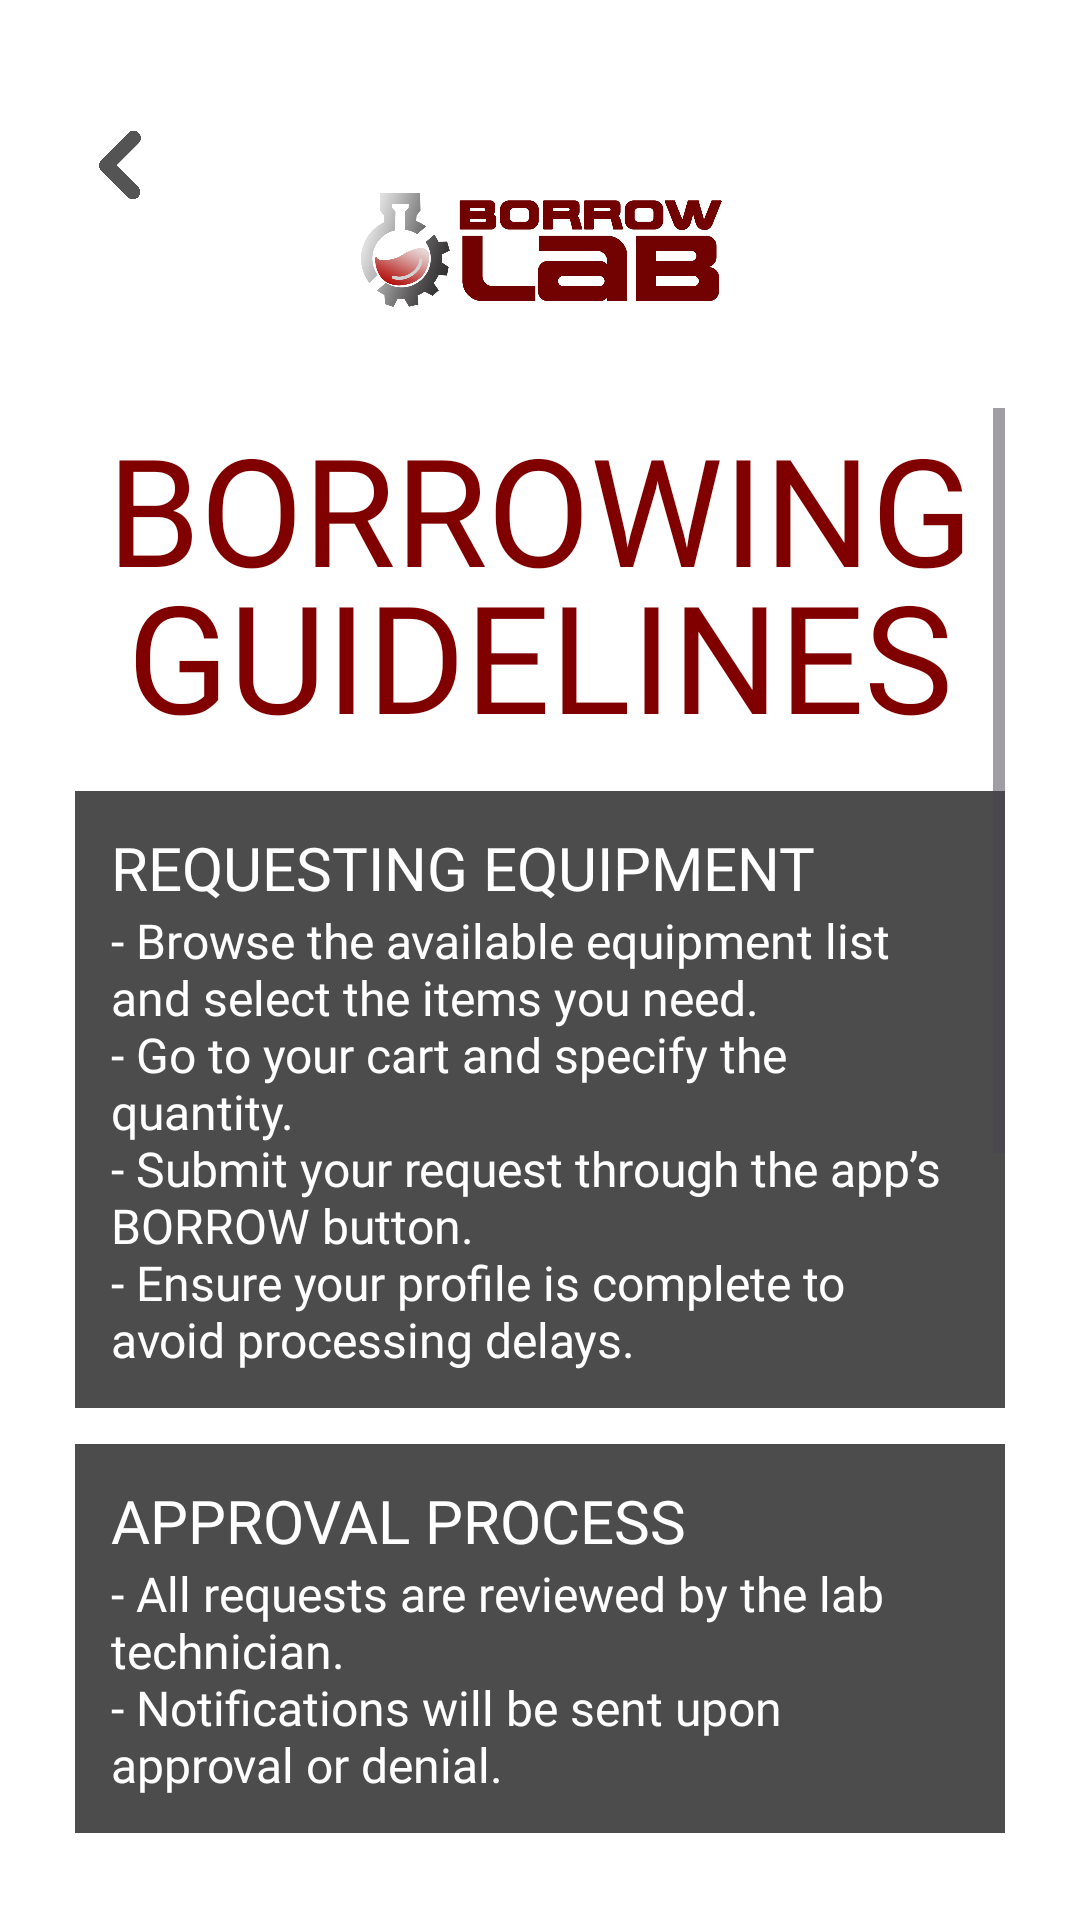

Named icons in this screenshot (1080x1920) and their bounding boxes, box(x1, y1, x2, y2):
Back Button: box(99, 131, 141, 199)
